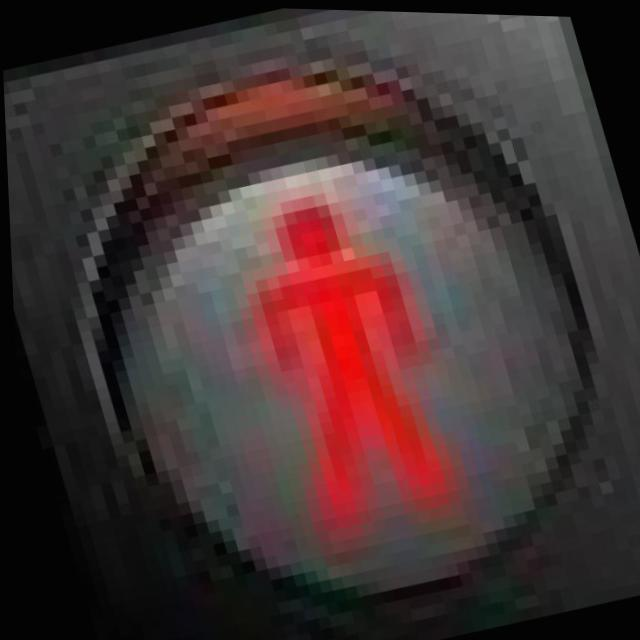red_light: (173, 113, 530, 556)
